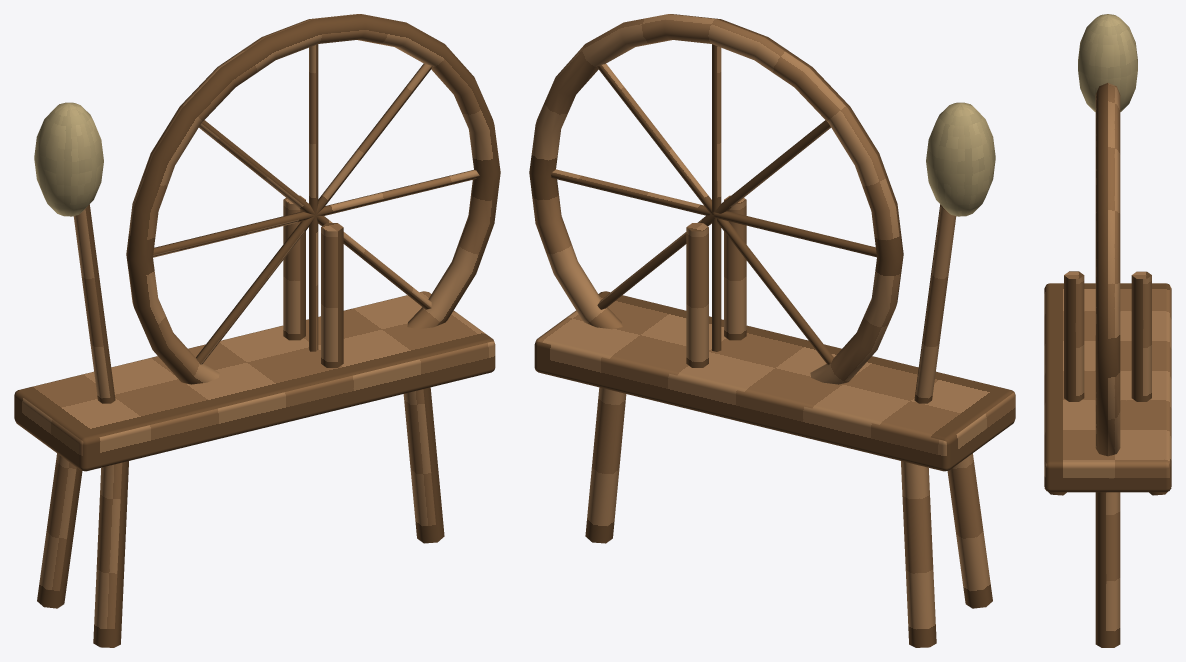
File: spinningWheel.glb
The picture shows the model from 3 angles, left to right: view 1: azimuth 30°, elevation 25°; view 2: azimuth 150°, elevation 25°; view 3: azimuth 270°, elevation 25°; orthographic projection. The views are drawn at different scales.
Parts seen in each view (by area): view 1: dyn_wood_variant (×2), spinningWheel; view 2: dyn_wood_variant (×2), spinningWheel; view 3: dyn_wood_variant (×2), spinningWheel.
Boxes of the visible parts, x1,y1,x2,y2 form: dyn_wood_variant (×2): (14, 14, 500, 647); spinningWheel: (34, 102, 103, 216); dyn_wood_variant (×2): (529, 14, 1015, 647); spinningWheel: (926, 102, 995, 216); dyn_wood_variant (×2): (1044, 83, 1171, 647); spinningWheel: (1078, 14, 1137, 111).
Bounding box in the file's own units: 0.8482 × 0.965 × 0.2251.
2 materials, 2 textured.
